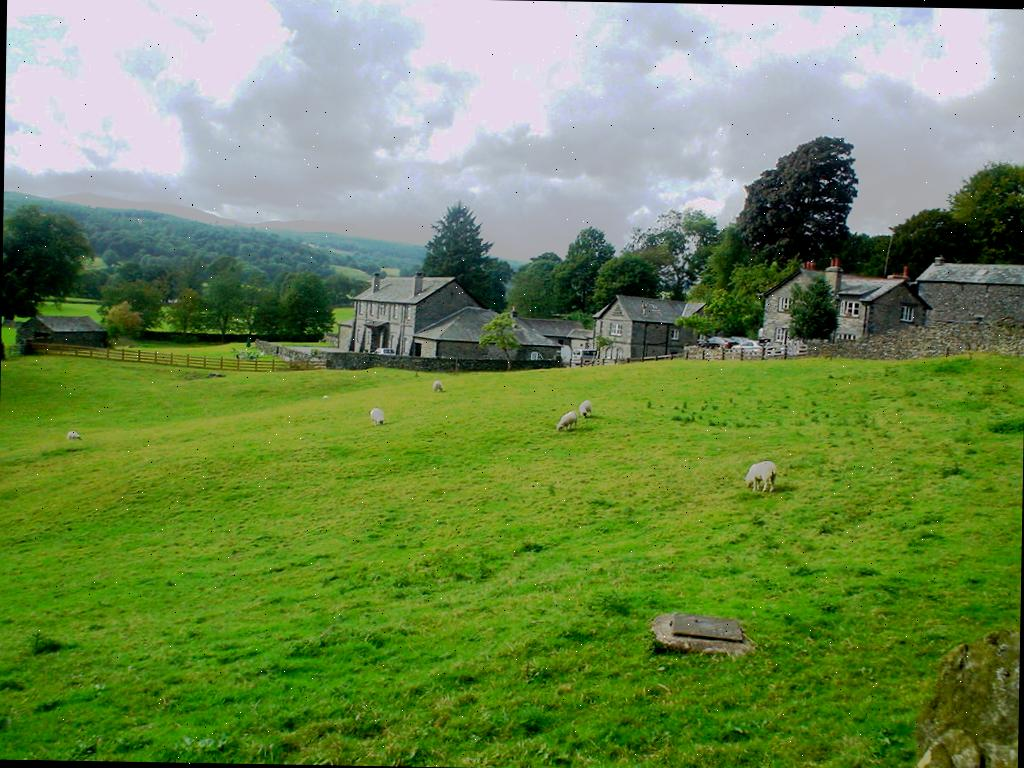Sheep: (744, 460, 780, 494), (556, 410, 578, 433), (368, 405, 387, 428), (578, 400, 594, 420), (66, 428, 84, 442), (429, 380, 447, 394)
